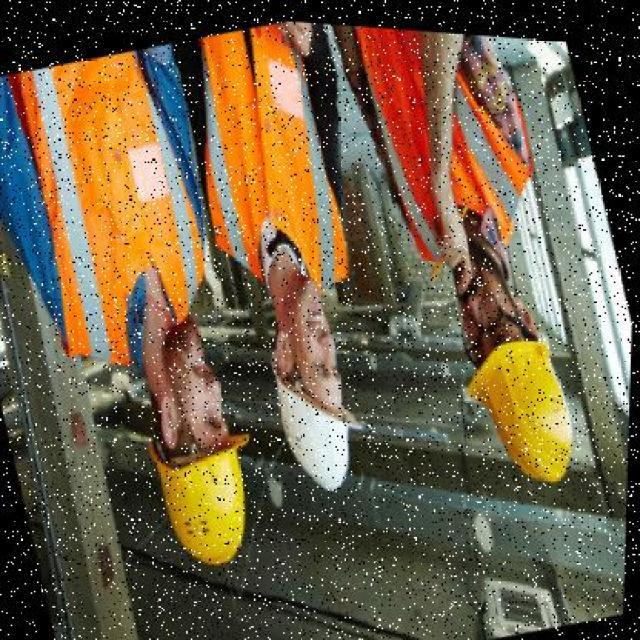helmet: (139, 394, 285, 578), (449, 305, 591, 490), (260, 326, 384, 500)
vest: (0, 29, 252, 397), (165, 11, 385, 339), (334, 20, 556, 285)
